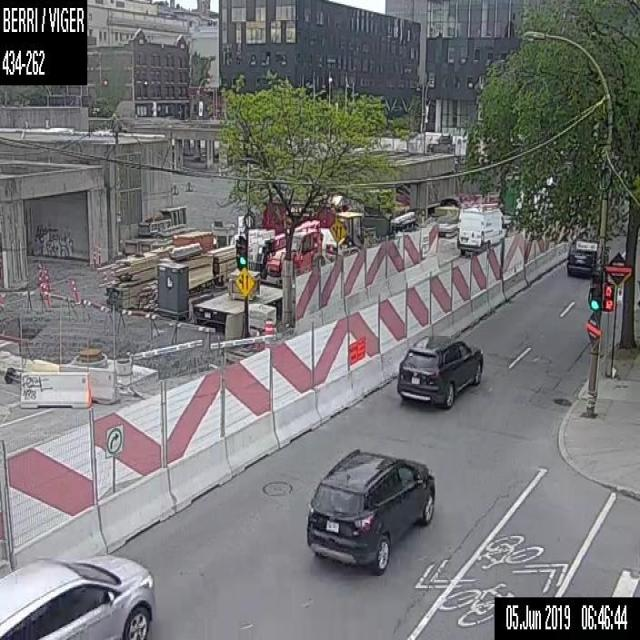construction: (0, 104, 586, 574), (264, 317, 274, 348)
vehicle: (304, 443, 434, 576), (0, 552, 156, 638), (394, 329, 484, 411), (455, 200, 507, 255), (564, 237, 592, 279)
